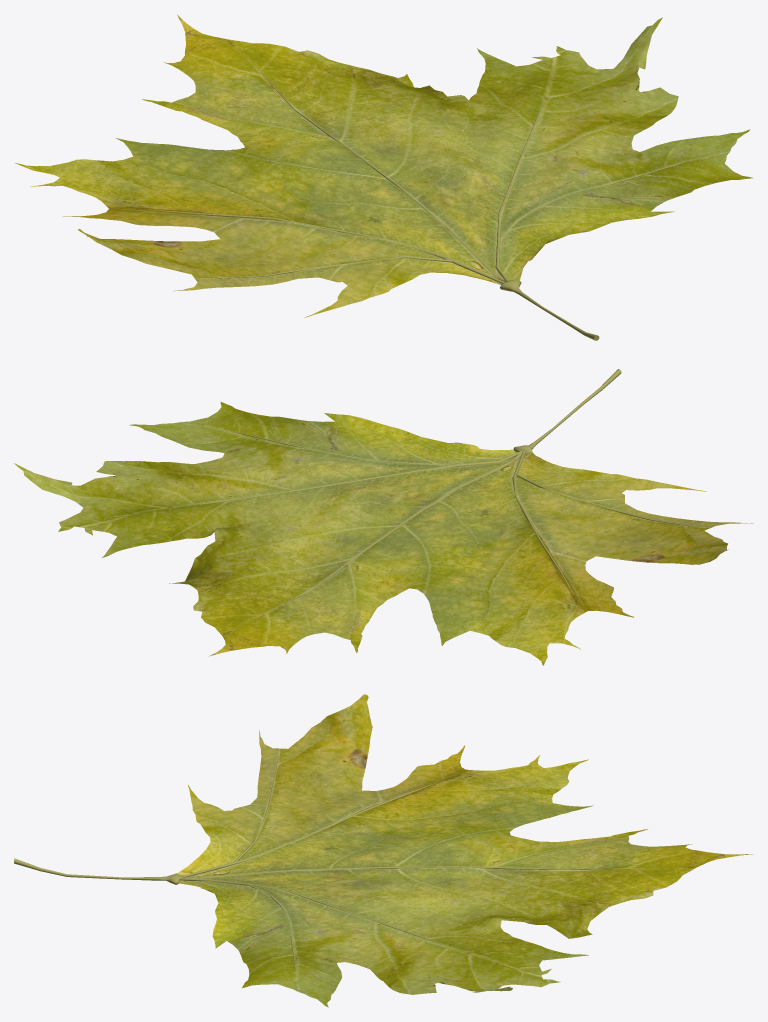
File: daunmenjari.fbx
3 views of the same model, one above another, from view 1: azimuth 30°, elevation 25°; view 2: azimuth 150°, elevation 25°; view 3: azimuth 270°, elevation 25° (orthographic). The views are drawn at different scales.
Parts seen in each view (by area): view 1: daun maple; view 2: daun maple; view 3: daun maple.
Boxes of the visible parts, bbox=[...] form: daun maple: bbox=[15, 14, 753, 340]; daun maple: bbox=[14, 369, 753, 665]; daun maple: bbox=[14, 694, 752, 1007].
Size of the model in its own units: 2918 by 250 by 3223.
